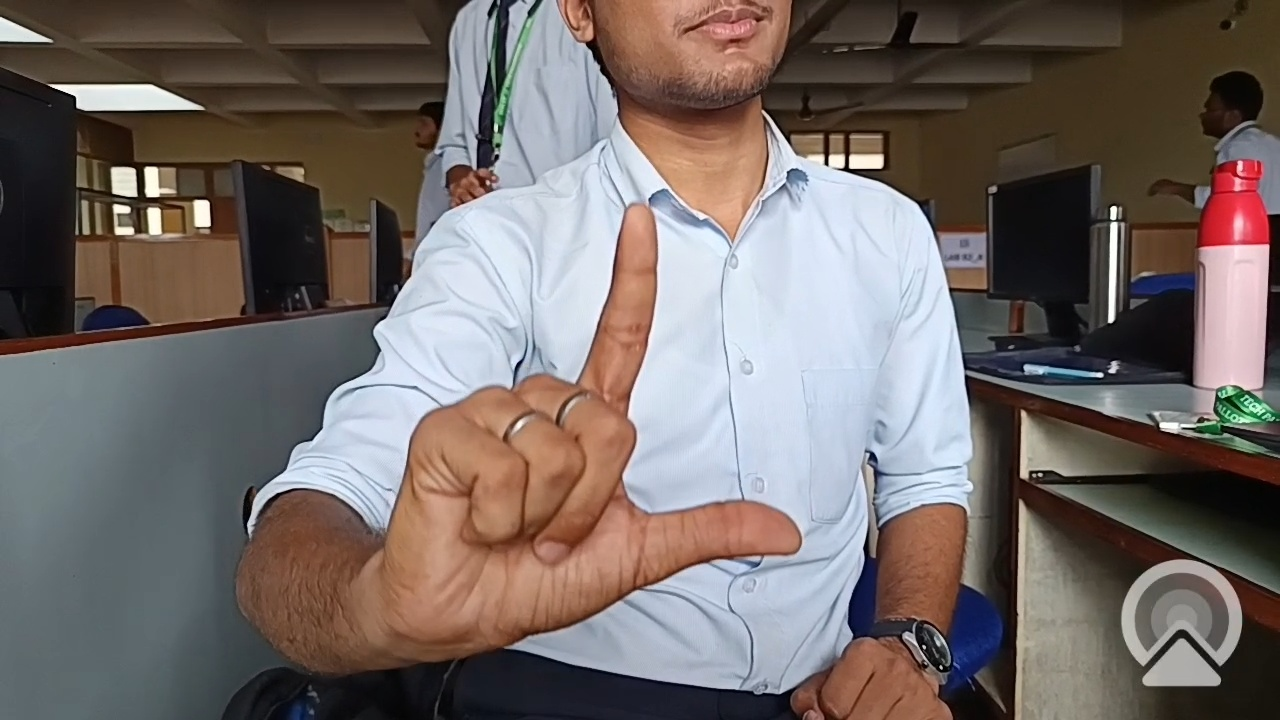L: (322, 162, 850, 669)
